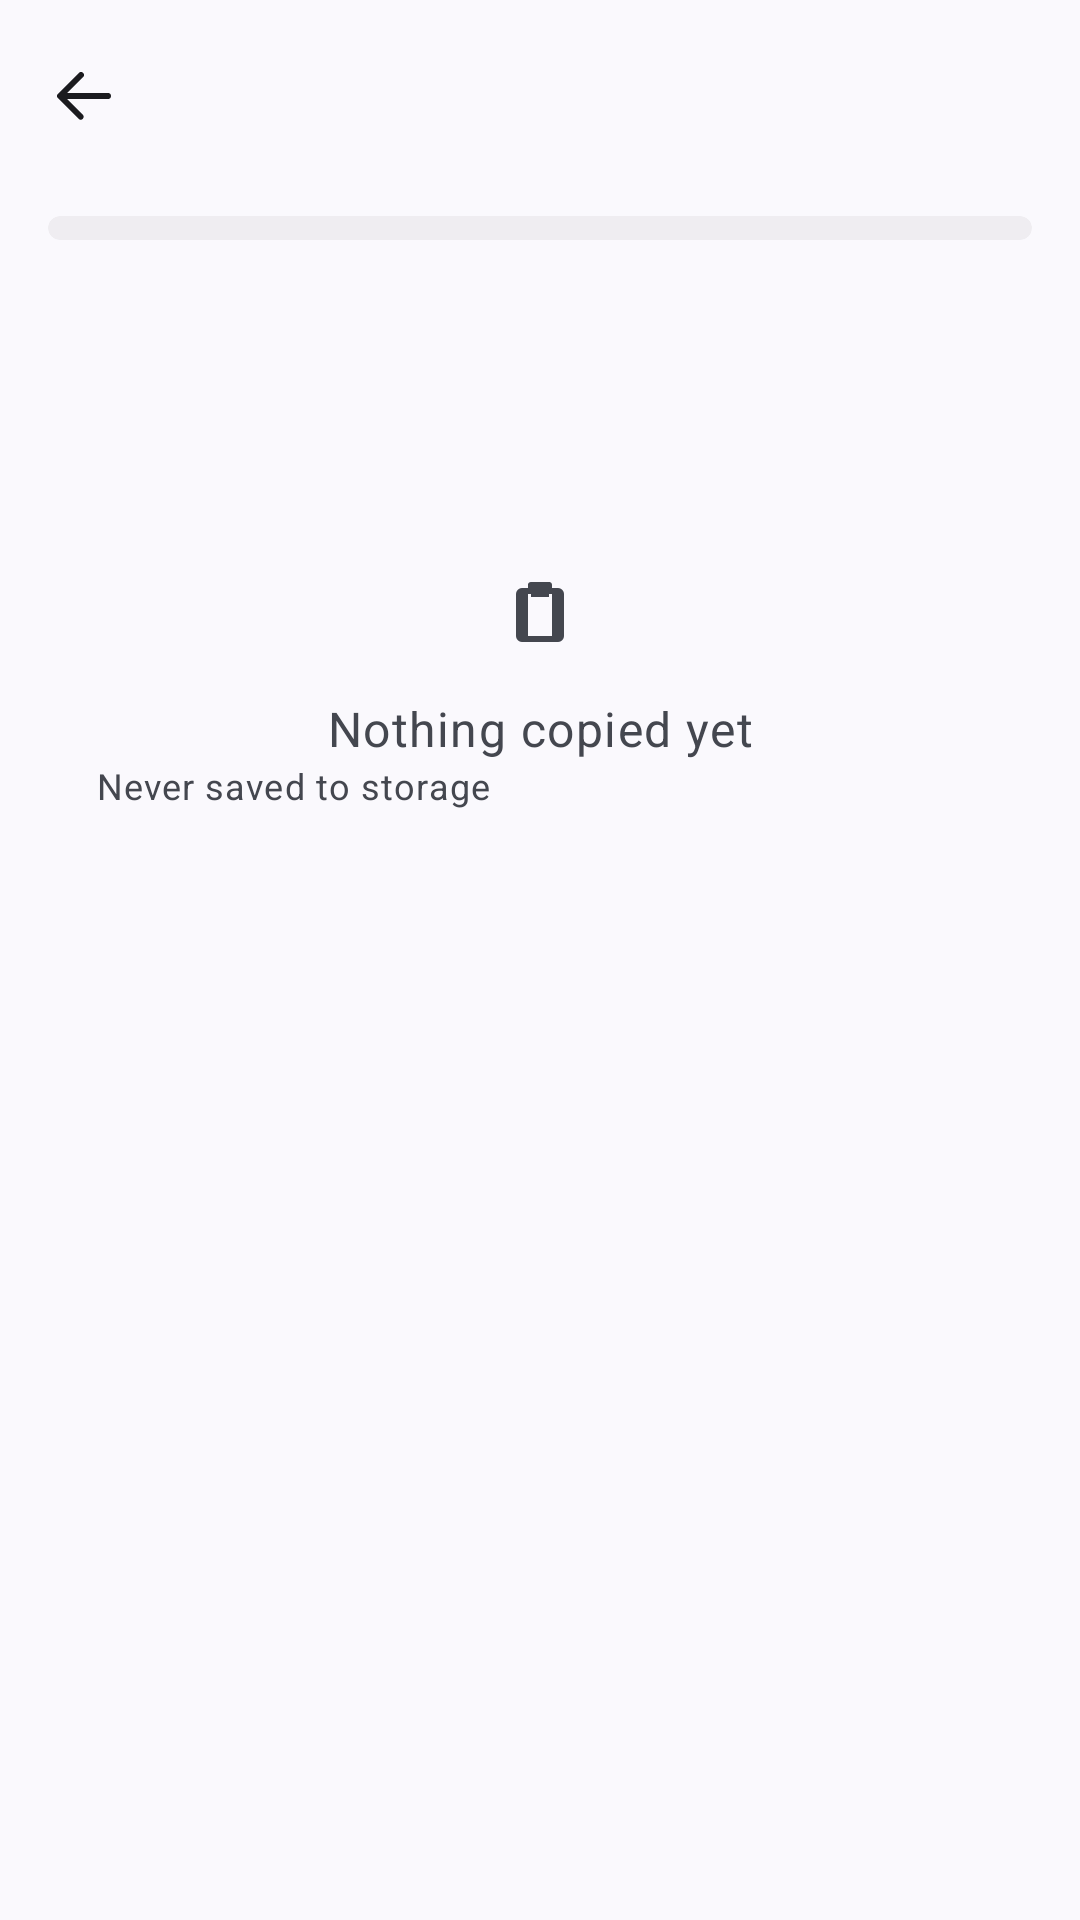

Icon click points for this 1080px x 1920px phone screenshot, format point (x, y):
Back: point (84, 96)
